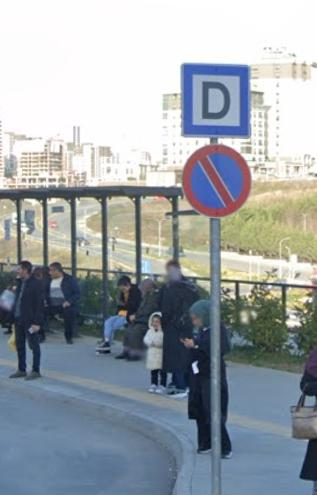nopark: (189, 145, 246, 214)
station: (185, 64, 249, 133)
